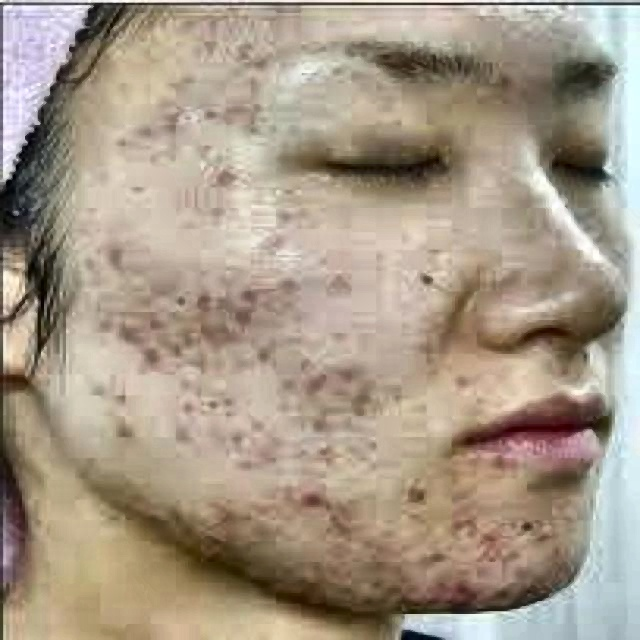papule: (336, 375, 380, 416), (147, 101, 201, 132), (119, 107, 157, 151), (207, 156, 245, 198), (226, 42, 279, 72), (104, 411, 150, 445), (292, 471, 332, 510), (78, 302, 120, 338), (185, 286, 232, 318), (106, 310, 150, 344), (439, 504, 480, 538), (128, 341, 172, 372), (471, 515, 505, 552), (195, 315, 229, 351), (157, 422, 204, 448), (405, 572, 442, 604), (326, 354, 364, 385), (194, 91, 226, 125), (166, 325, 207, 351), (229, 284, 264, 310), (75, 372, 104, 403), (223, 450, 260, 474), (298, 356, 323, 391), (220, 500, 251, 528), (452, 572, 477, 606), (97, 247, 132, 271), (232, 341, 267, 364), (229, 299, 248, 336), (223, 429, 254, 450), (242, 78, 264, 104)
